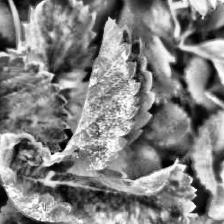Powdery Mildew Leaf: (0, 132, 200, 224), (48, 17, 156, 178)
